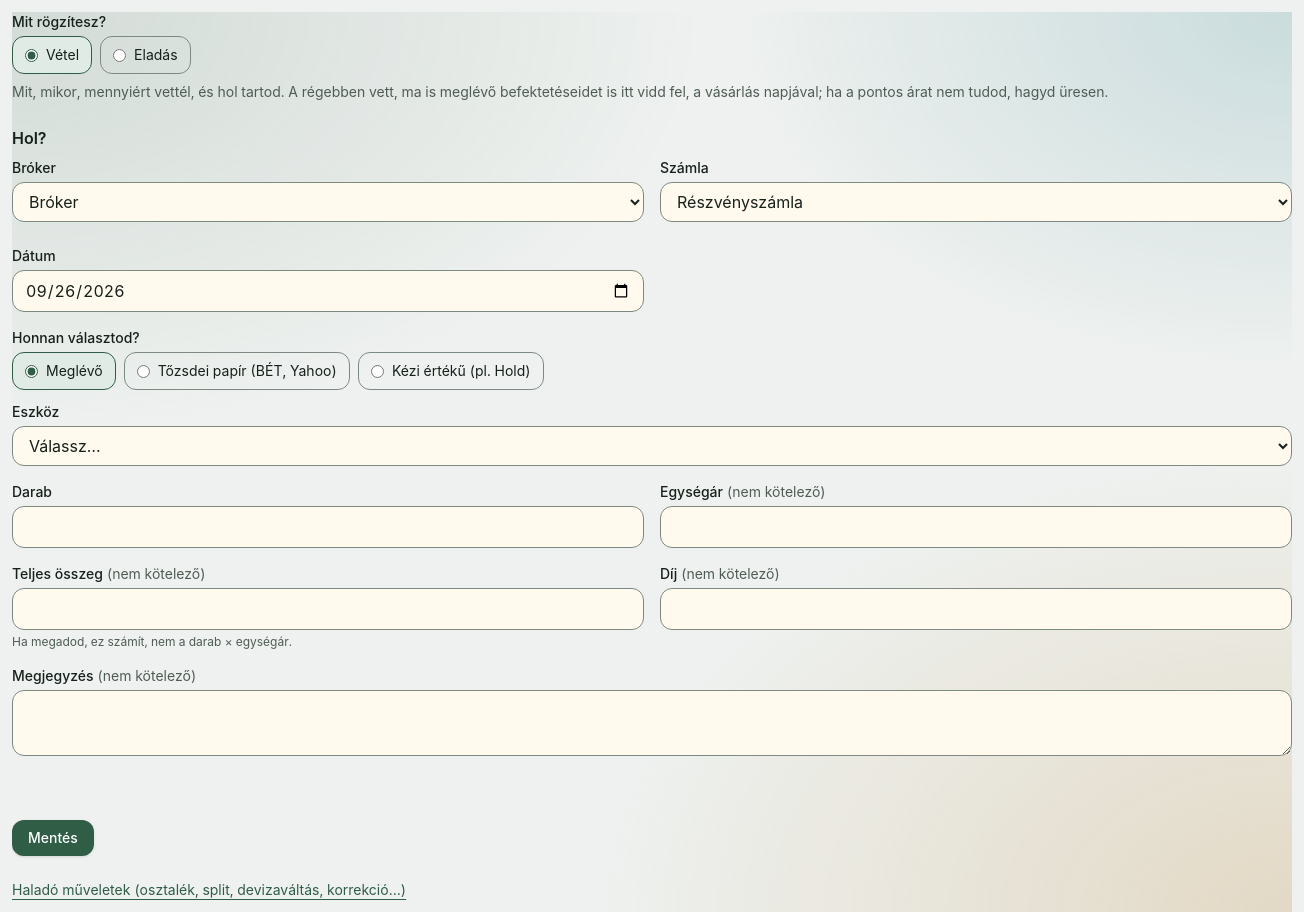
Scenario: EntryForm – Vétel and Eladás (4c plan §2, without the Mai állomány tab since 2026-09-27) › server errors land on their fields; the typed values stay
The width and height of the screenshot is (1304, 912).
Select "Példa (PLDA) · EUR" in the dropdown labelled "Eszköz". click: (652, 446)
box: [12, 426, 1292, 466]
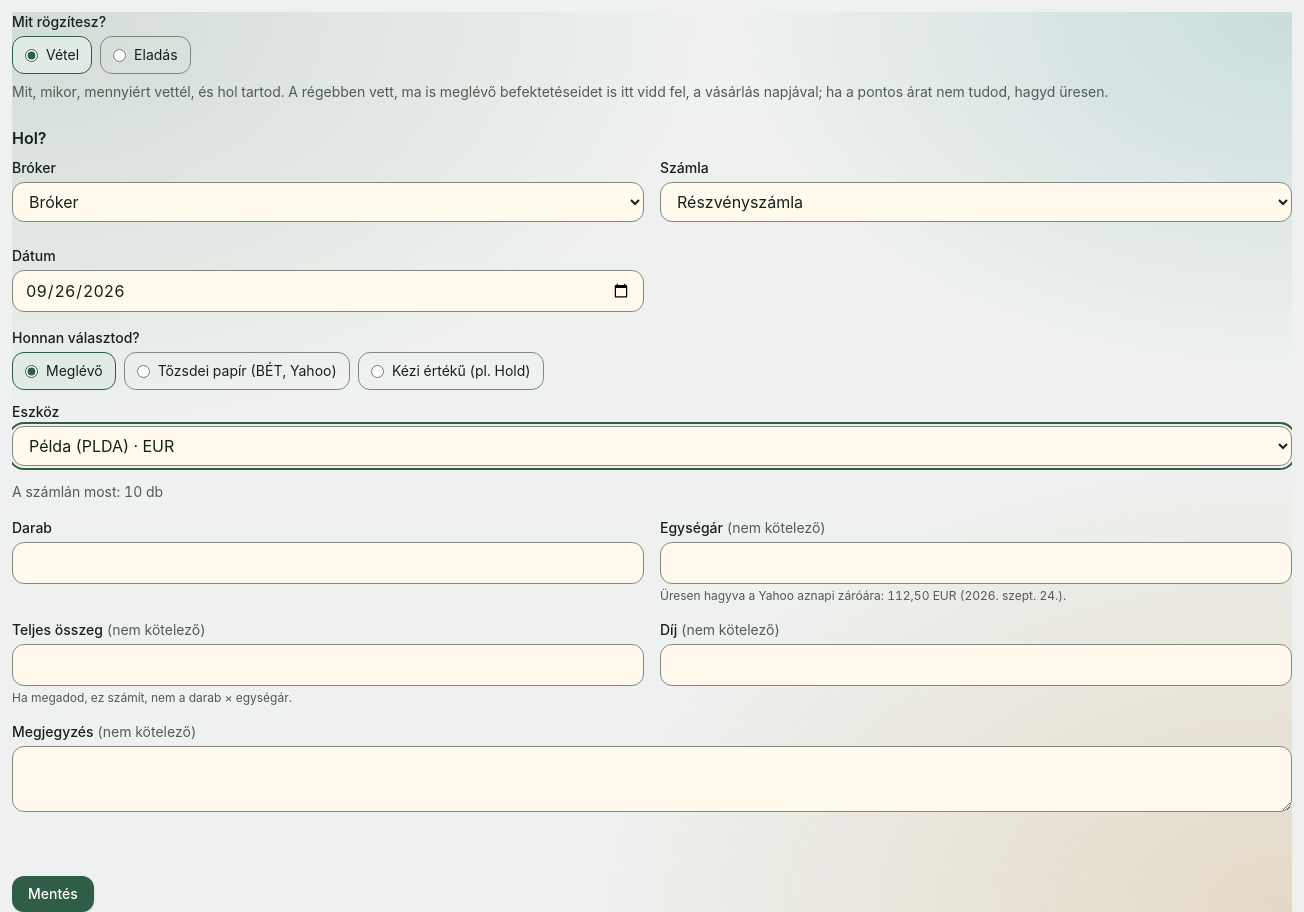
Type "50" into the field labelled "Egységár (nem kötelező)". click: (976, 563)
box: [660, 542, 1292, 584]
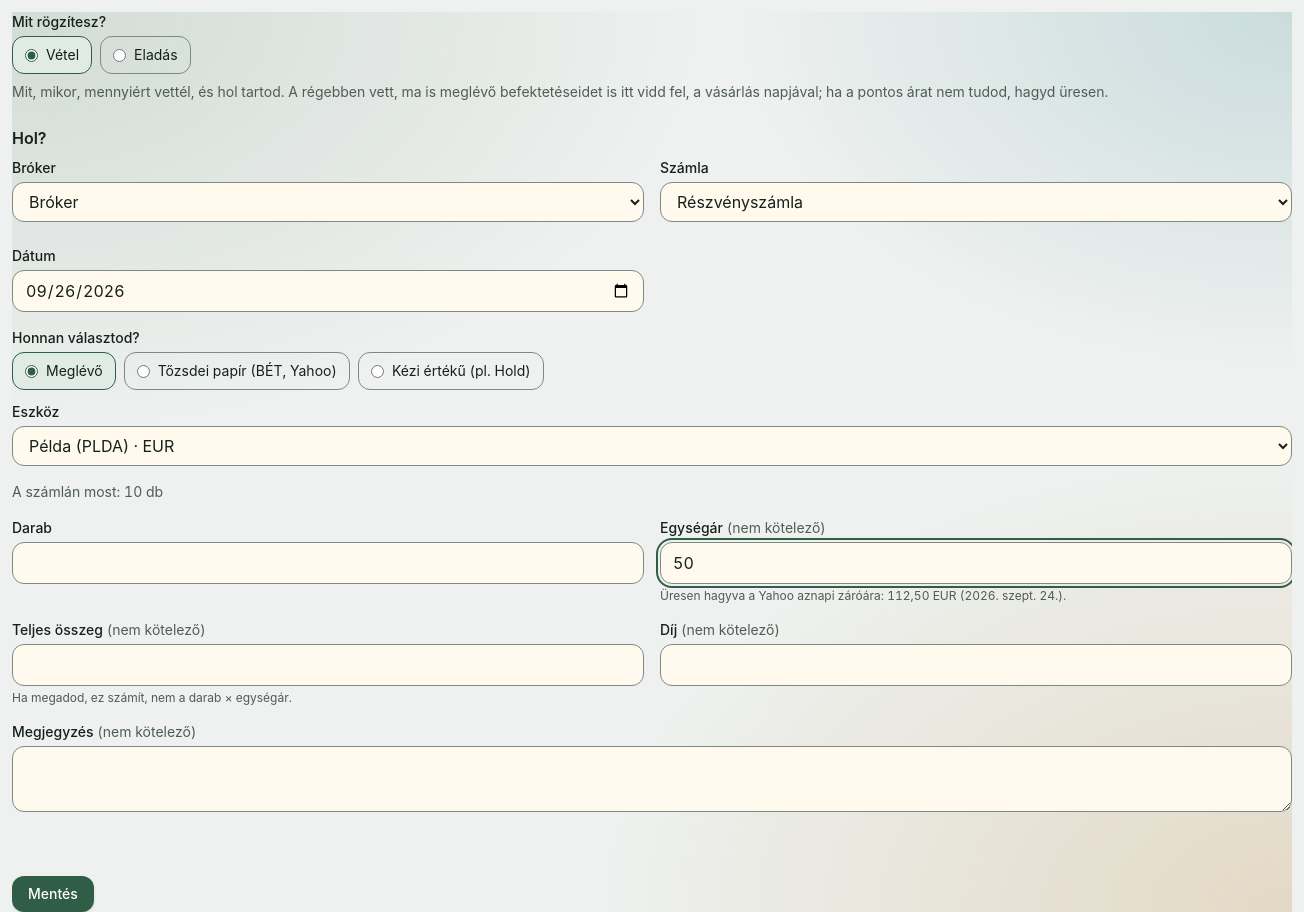
Click the button "Mentés". click: (53, 894)
box: [12, 876, 94, 911]
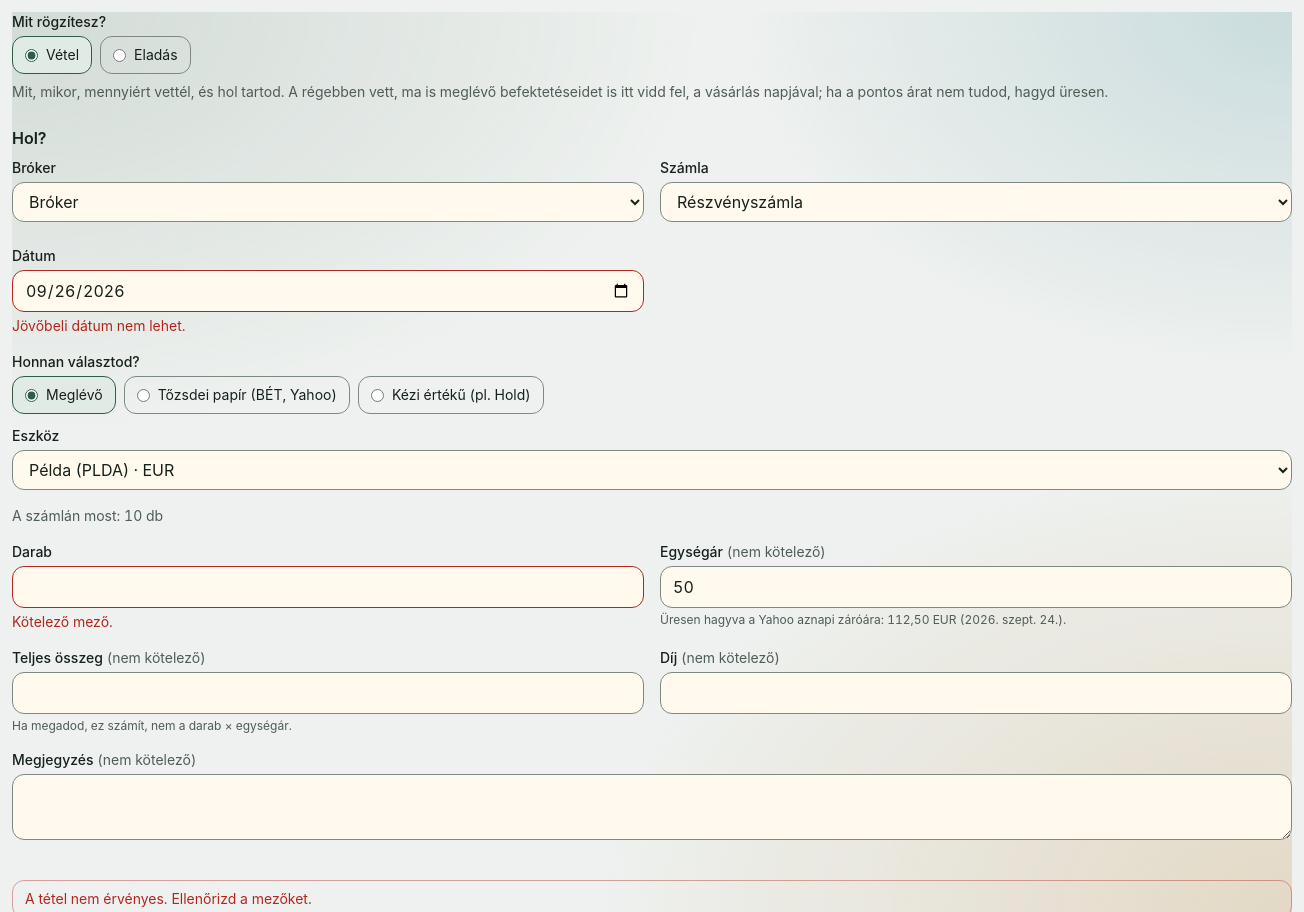
Now the text "Kötelező mező." is shown, box [12, 613, 113, 630]
